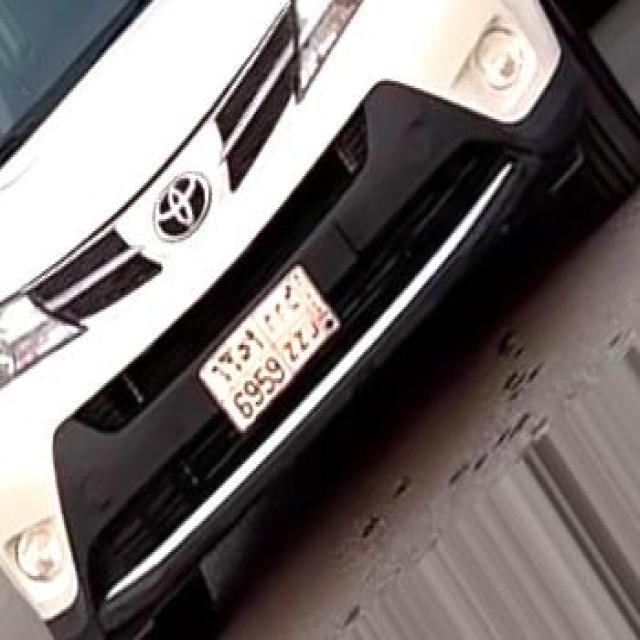Car-plate: (175, 246, 364, 468)
